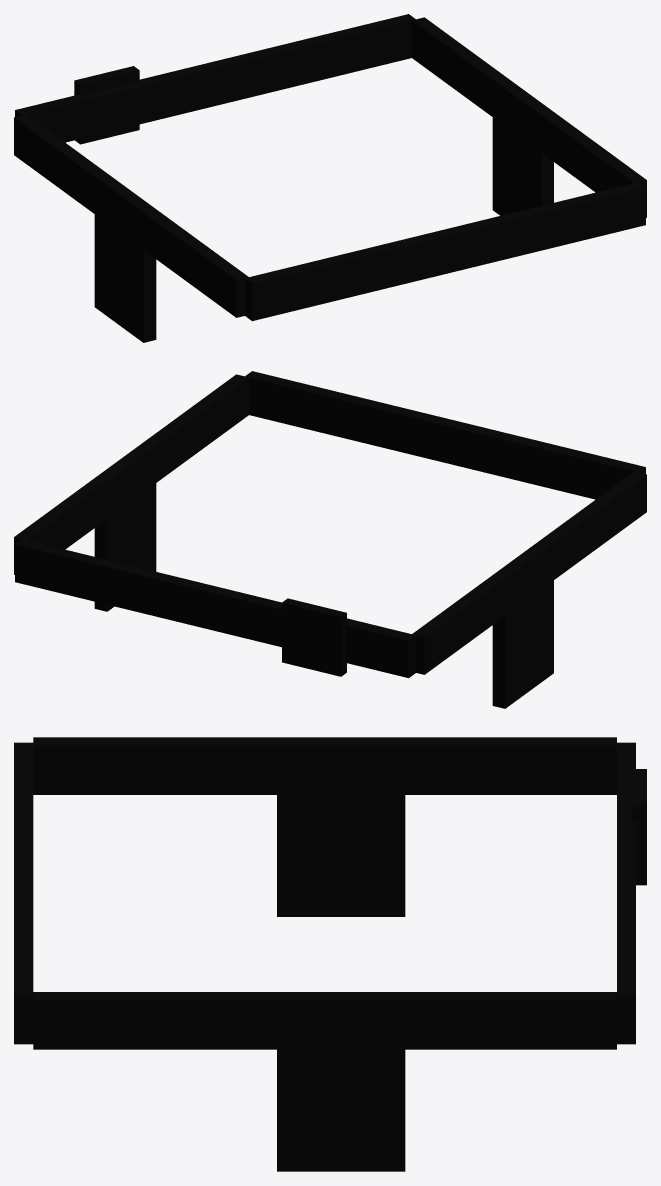
The model's file is workpiece_xuantie_helmet_ground.obj.
3 renders of one model, top to bottom at view 1: azimuth 30°, elevation 25°; view 2: azimuth 150°, elevation 25°; view 3: azimuth 270°, elevation 25°, orthographic. The views are drawn at different scales.
Visible parts, largest first — view 1: geometry; view 2: geometry; view 3: geometry.
Part boxes in pixels (bbox=[...]): geometry: bbox=[14, 14, 646, 342]; geometry: bbox=[14, 371, 646, 708]; geometry: bbox=[14, 737, 646, 1171].
Size of the model in its own units: 0.6062 by 0.2 by 0.6169.
